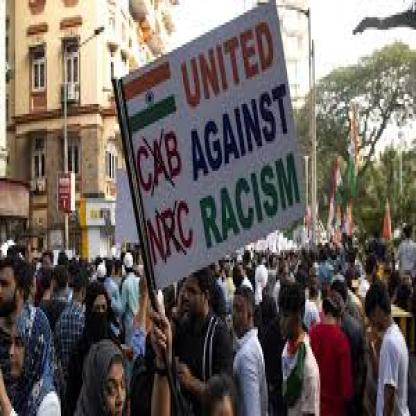BANNER: (114, 2, 305, 292)
